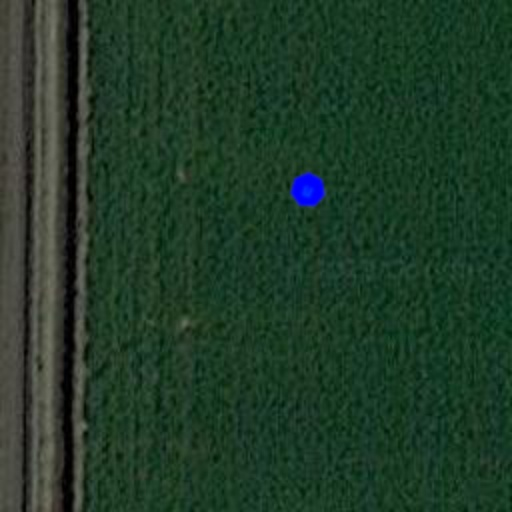heptagon: (284, 166, 332, 214)
